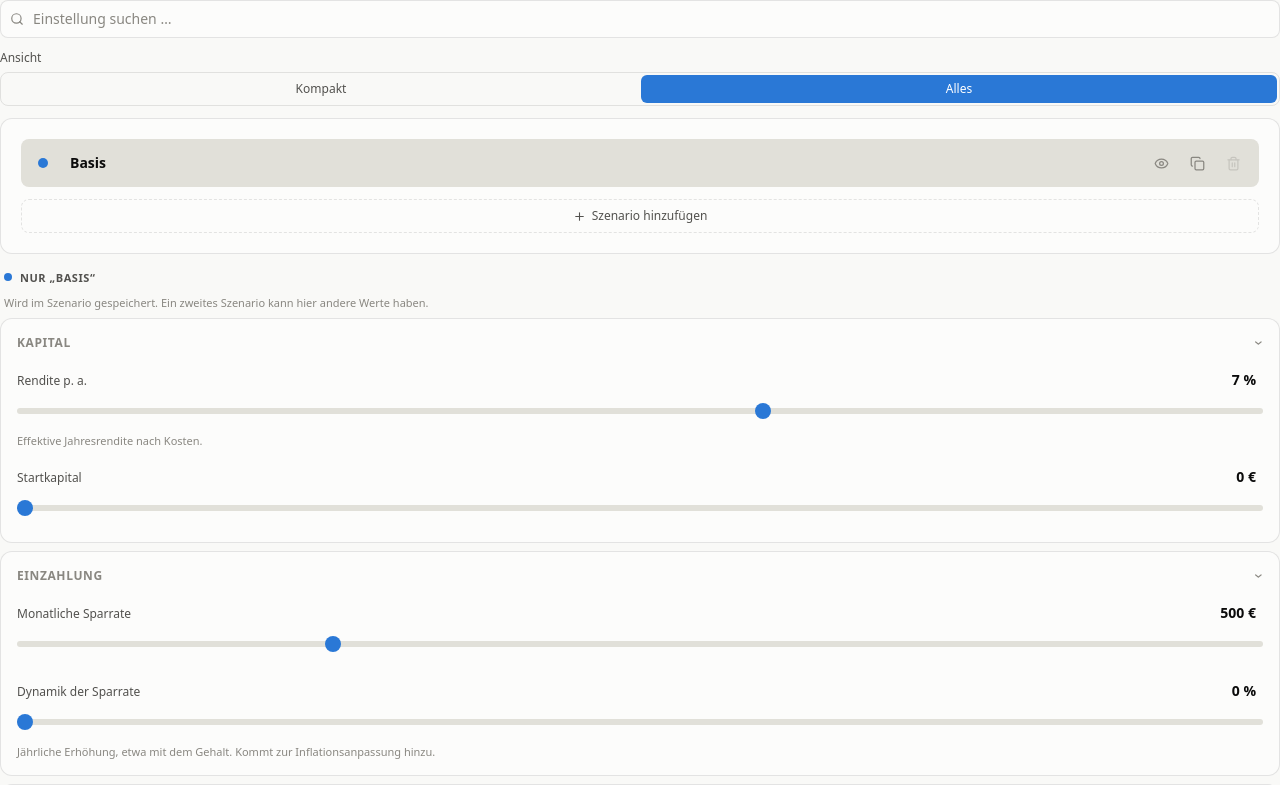
it: SettingsPanel: Bereiche › klappt die beiden Hälften einer Kategorie unabhängig zu
Click the button "Einzahlung ›".
click(60, 575)  # box [1,552,1279,600]
(page scrolled)
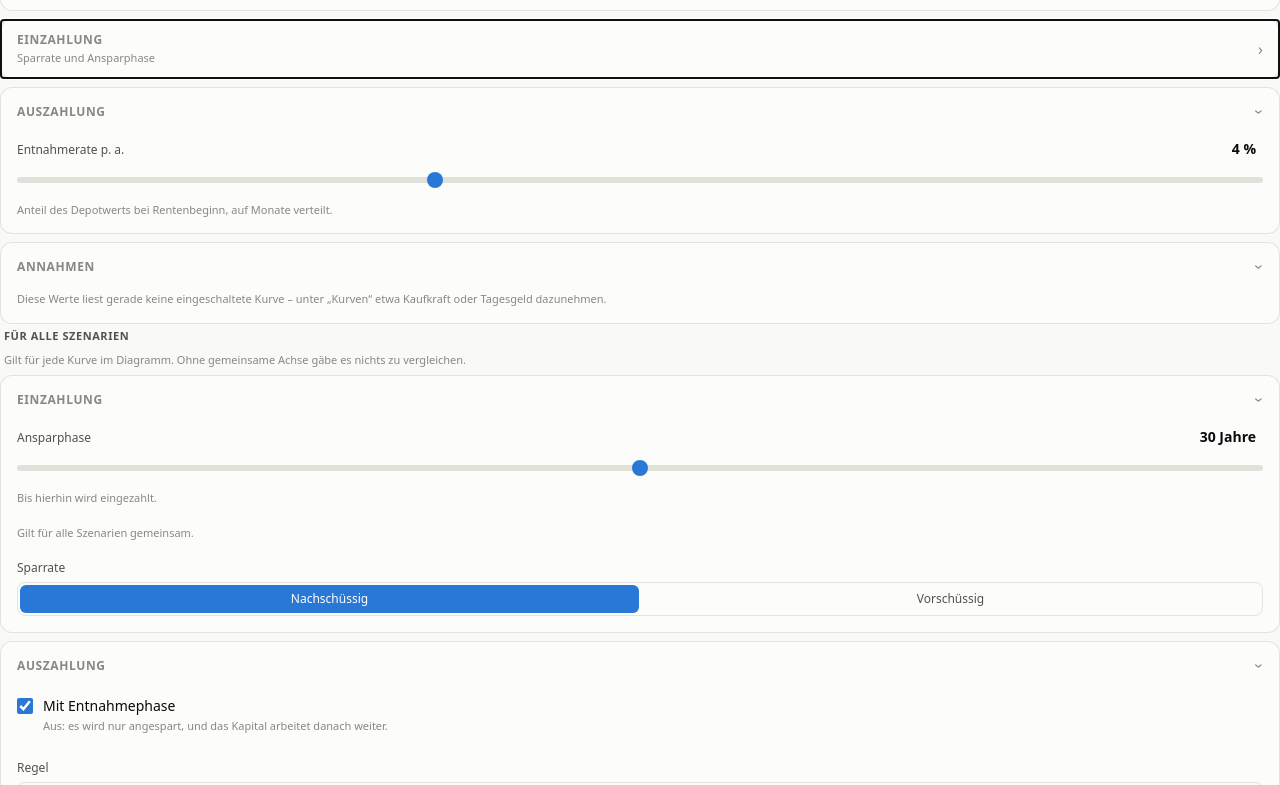
Result: the button "Einzahlung Sparrate und Ansparphase ›" is collapsed at [1,20,1279,78]
